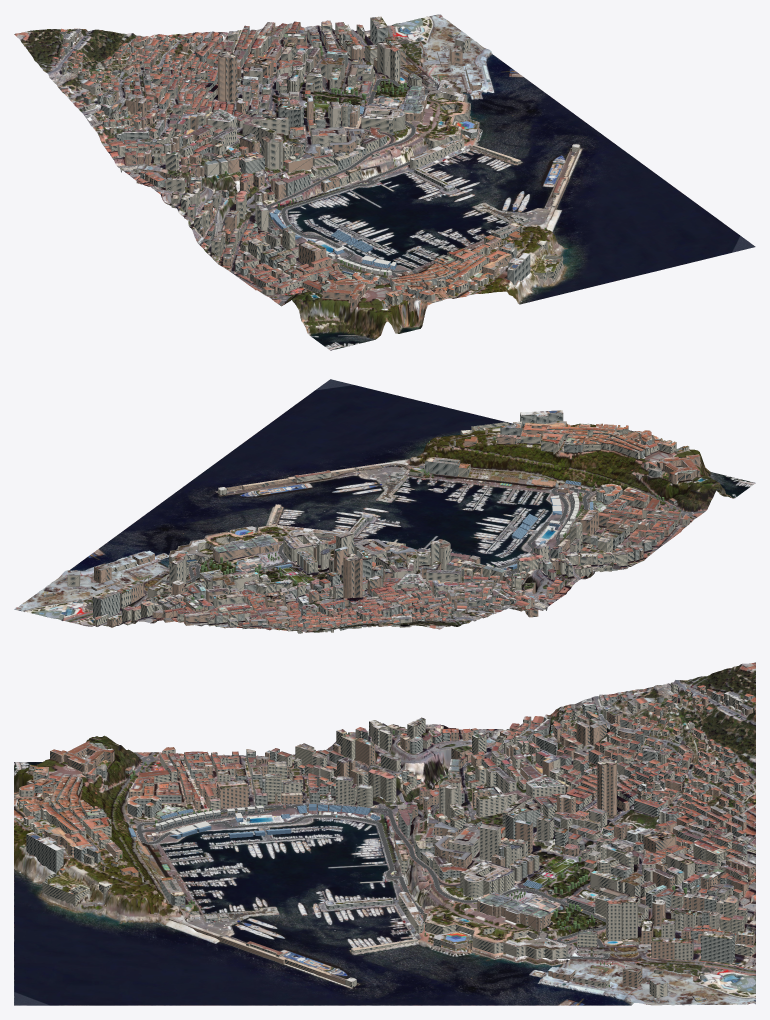
File: monaco.glb
3 views of the same model, one above another, from view 1: azimuth 30°, elevation 25°; view 2: azimuth 150°, elevation 25°; view 3: azimuth 270°, elevation 25° (orthographic). The views are drawn at different scales.
Parts seen in each view (by area): view 1: Monaco_IGN69_LiDAR_Terrain, Monaco_Current_OSM_Buildings, Monaco_Measured_Roofs, FIA_Monaco_Centreline_9m, Monaco_Pit_Wall_And_Track_Barriers, Monaco_2026_Current_Grandstands; view 2: Monaco_IGN69_LiDAR_Terrain, Monaco_Current_OSM_Buildings, Monaco_Measured_Roofs, FIA_Monaco_Centreline_9m, Monaco_2026_Current_Grandstands, Monaco_Mapped_LiDAR_Trees, Monaco_Pit_Wall_And_Track_Barriers; view 3: Monaco_IGN69_LiDAR_Terrain, Monaco_Current_OSM_Buildings, Monaco_Measured_Roofs, FIA_Monaco_Centreline_9m, Monaco_2026_Current_Grandstands, Monaco_Pit_Wall_And_Track_Barriers, Monaco_Mapped_LiDAR_Trees, Monaco_2026_11_Team_Pit_Complex.
Boxes of the visible parts, box(x1,y1,x2,y2) form: Monaco_IGN69_LiDAR_Terrain: box(14, 14, 755, 350); Monaco_Current_OSM_Buildings: box(52, 18, 580, 312); Monaco_Measured_Roofs: box(52, 16, 579, 305); FIA_Monaco_Centreline_9m: box(266, 78, 438, 281); Monaco_Pit_Wall_And_Track_Barriers: box(279, 77, 438, 281); Monaco_2026_Current_Grandstands: box(269, 106, 396, 277); Monaco_IGN69_LiDAR_Terrain: box(14, 379, 755, 632); Monaco_Current_OSM_Buildings: box(43, 413, 700, 633); Monaco_Measured_Roofs: box(43, 410, 699, 628); FIA_Monaco_Centreline_9m: box(160, 487, 589, 582); Monaco_2026_Current_Grandstands: box(275, 480, 593, 569); Monaco_Mapped_LiDAR_Trees: box(121, 437, 680, 599); Monaco_Pit_Wall_And_Track_Barriers: box(154, 487, 590, 582); Monaco_IGN69_LiDAR_Terrain: box(14, 662, 755, 1005); Monaco_Current_OSM_Buildings: box(19, 683, 755, 1001); Monaco_Measured_Roofs: box(19, 682, 755, 1000); FIA_Monaco_Centreline_9m: box(137, 805, 608, 959); Monaco_2026_Current_Grandstands: box(128, 804, 542, 889); Monaco_Pit_Wall_And_Track_Barriers: box(137, 805, 608, 959); Monaco_Mapped_LiDAR_Trees: box(94, 730, 686, 986); Monaco_2026_11_Team_Pit_Complex: box(155, 805, 264, 829).
Size of the model in its own units: 1180 by 232 by 1520.
18 materials, 5 textured.
